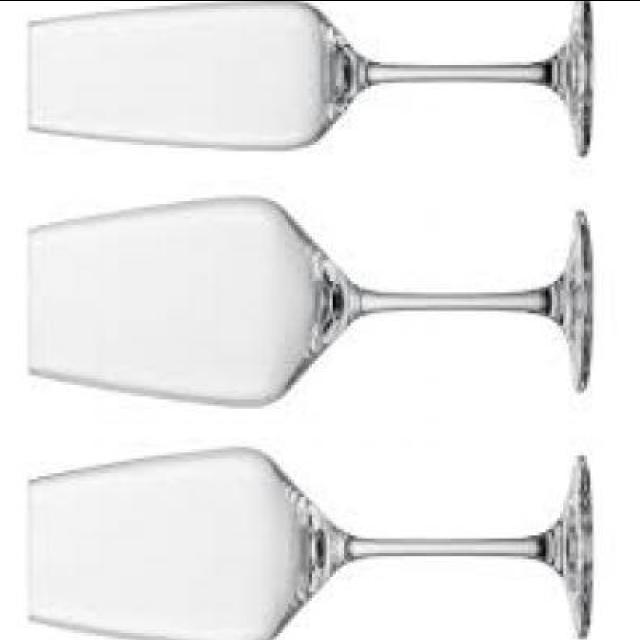kaca: (22, 189, 590, 408), (22, 446, 590, 640), (27, 0, 584, 154)
